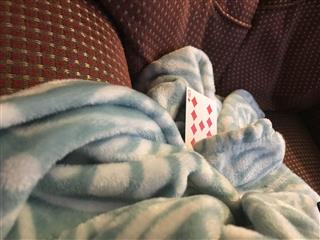NineOfDiamonds: (185, 85, 217, 147)
